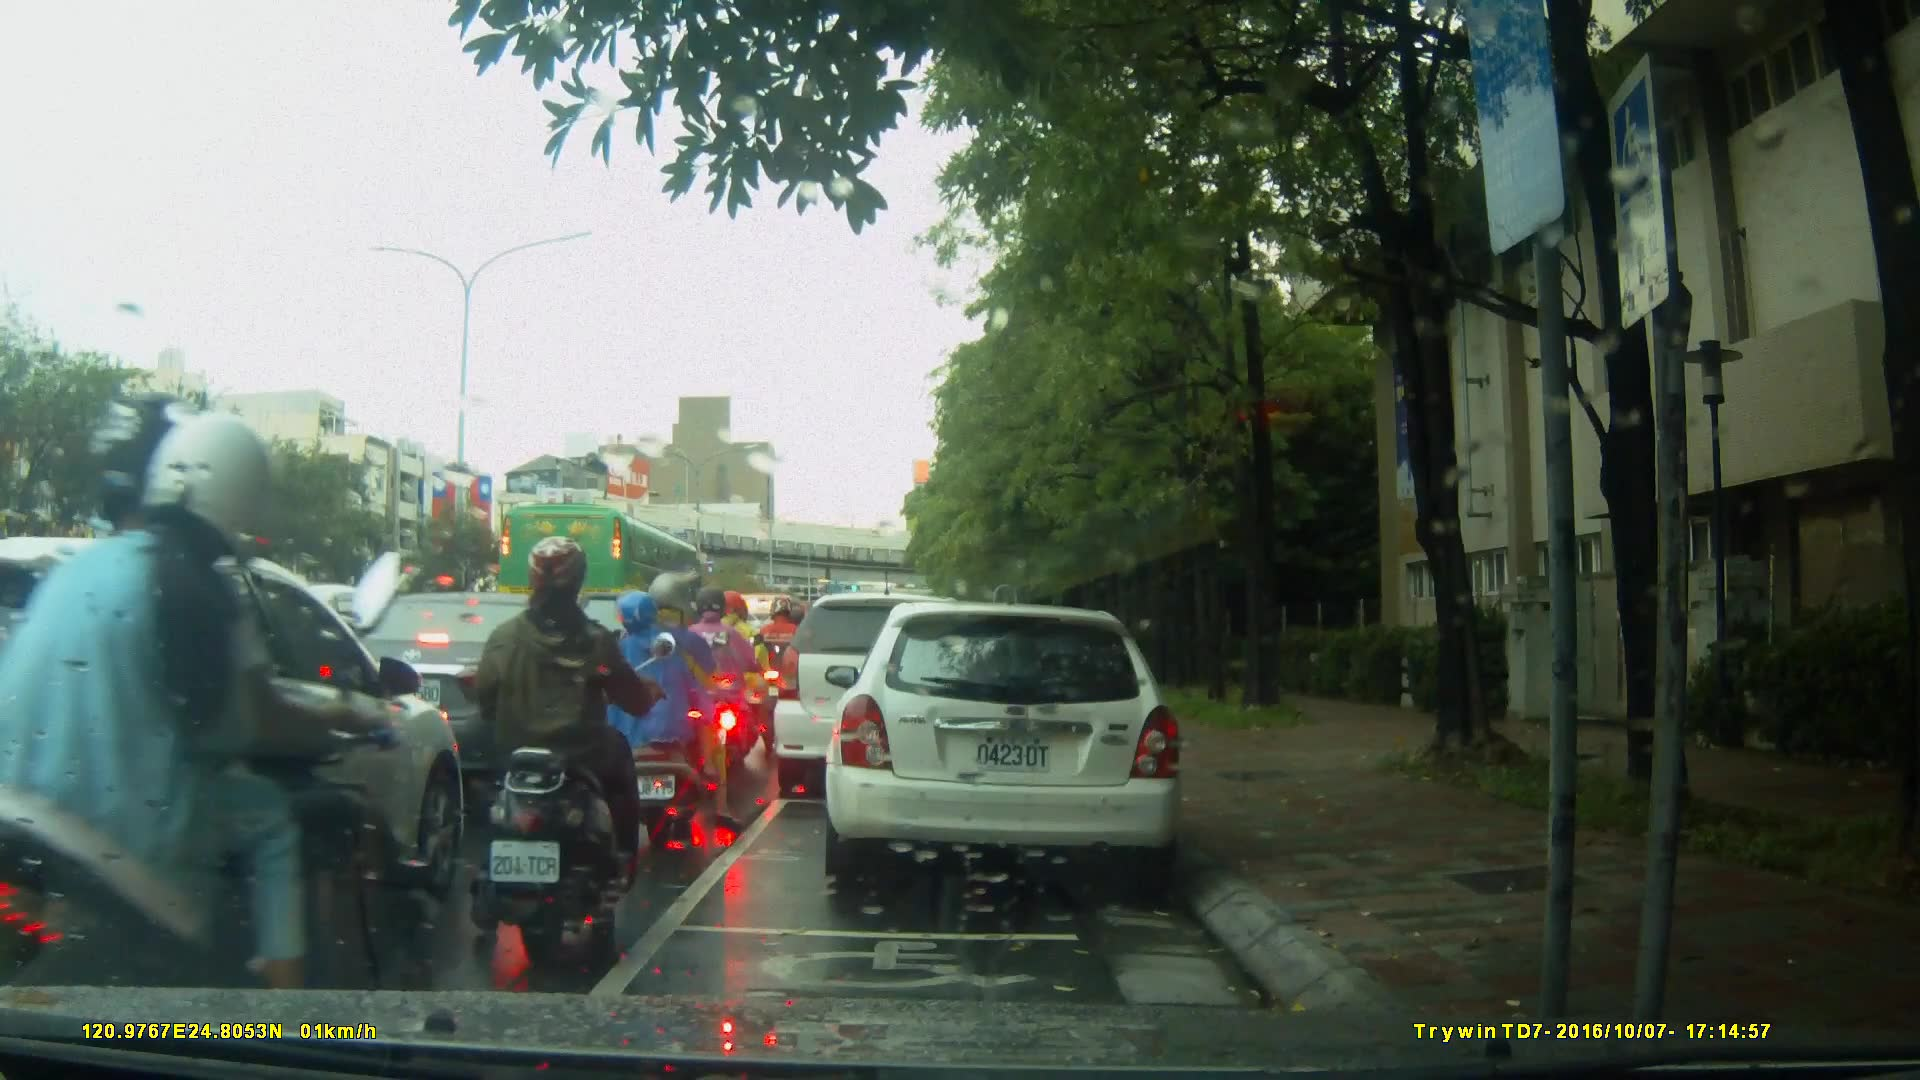rider: (22, 400, 459, 1059), (464, 530, 667, 955), (611, 576, 717, 833), (679, 589, 750, 779), (715, 592, 785, 769), (759, 595, 806, 735)
vehicle: (4, 535, 467, 988), (831, 592, 1196, 897), (312, 589, 629, 776), (771, 590, 999, 804), (501, 503, 709, 636)
